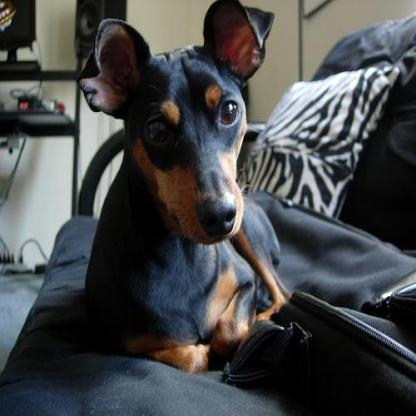miniature_pinscher: (80, 0, 290, 386)
